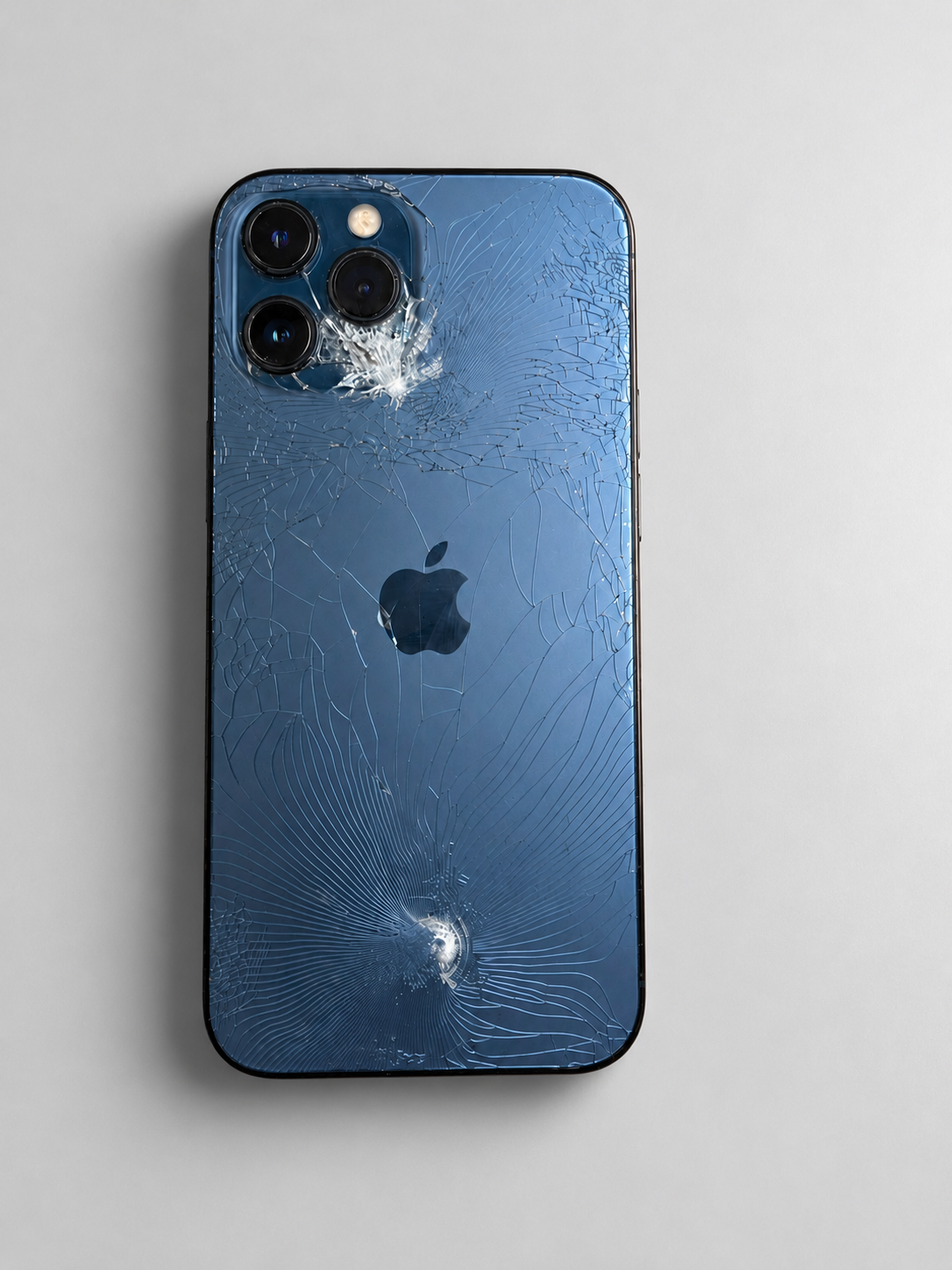iphone_12_pro_max_Crack: (134, 104, 685, 1122)
